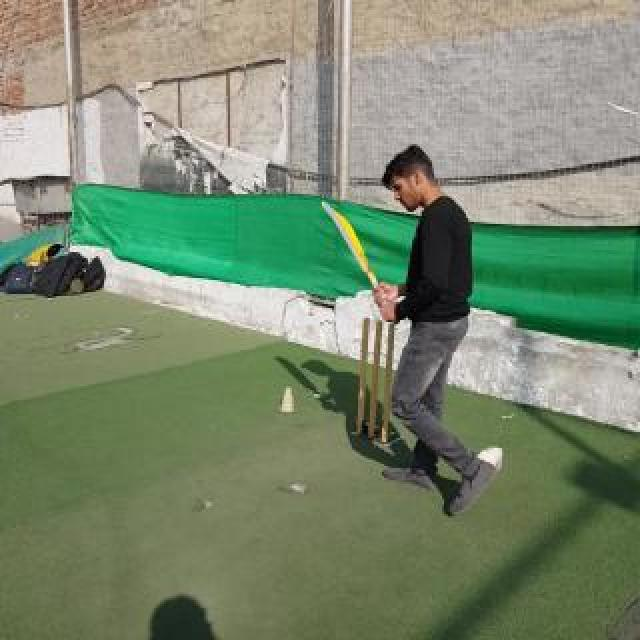bat: (320, 201, 398, 325)
